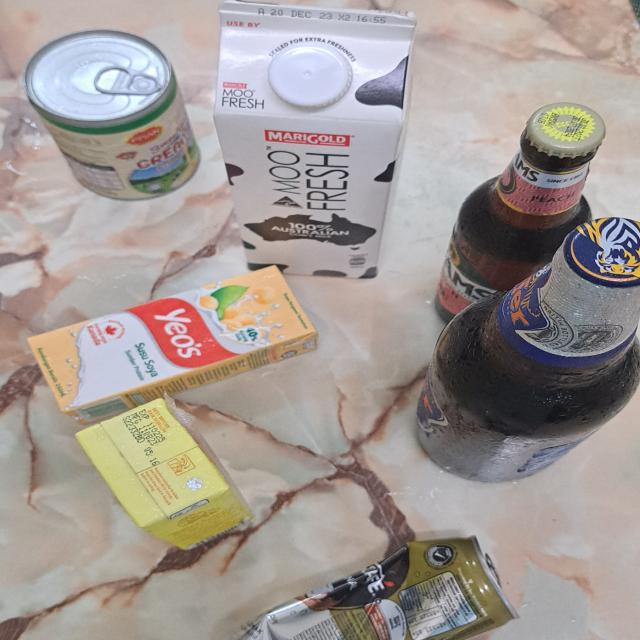can: (22, 28, 202, 203), (245, 534, 521, 640)
drink carton: (216, 0, 416, 279), (29, 266, 319, 426), (75, 399, 253, 551)
glass bottle: (417, 216, 640, 481), (433, 100, 604, 324)
plastic bottle cap: (267, 44, 353, 110)
pop tab: (93, 66, 163, 94)
